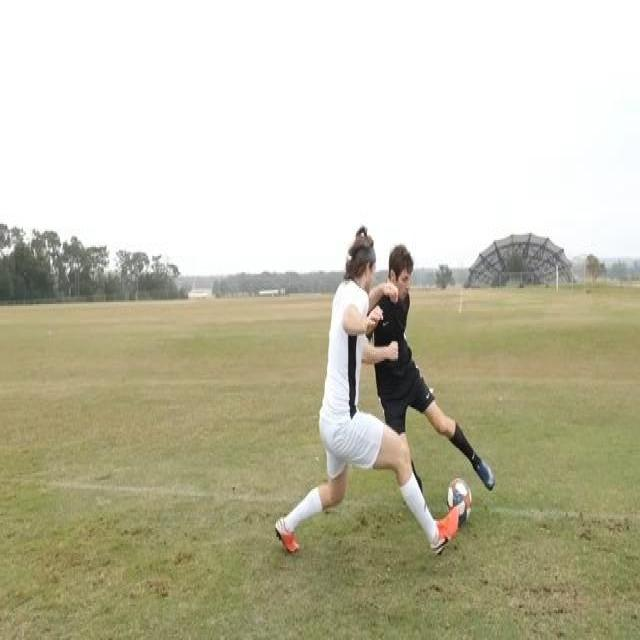Soccer Ball: (446, 476, 473, 527)
